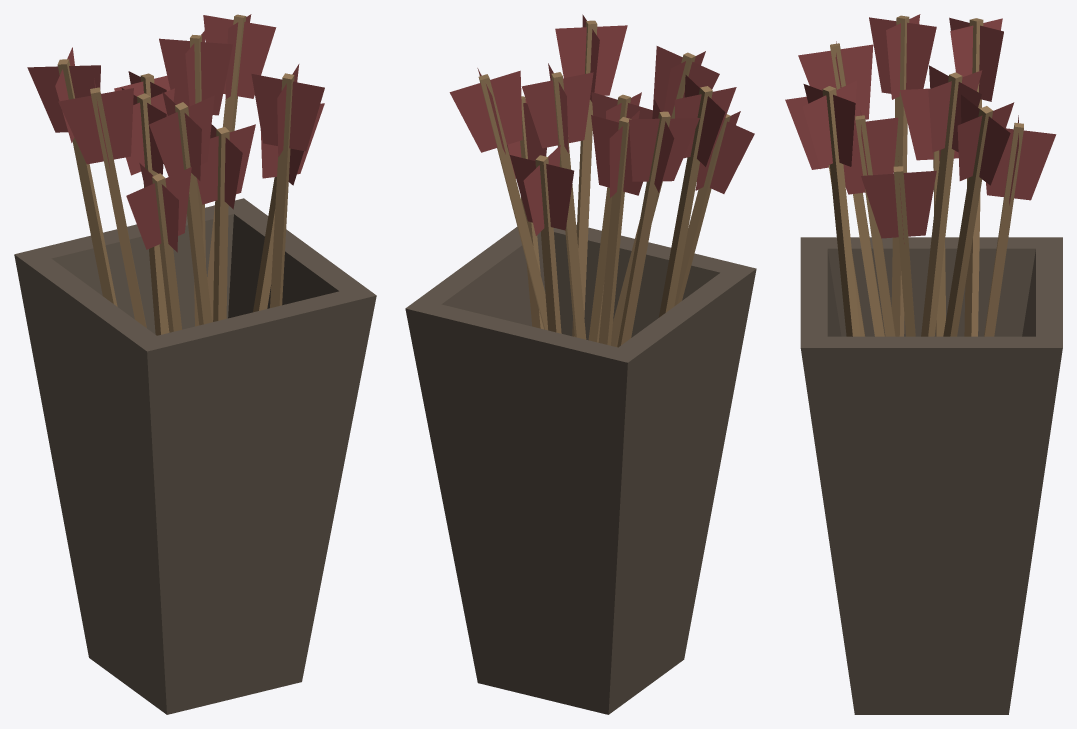
File: Arrow_Canister_Full.fbx
3 renders of one model, left to right at view 1: azimuth 30°, elevation 25°; view 2: azimuth 150°, elevation 25°; view 3: azimuth 270°, elevation 25°, orthographic. The views are drawn at different scales.
Parts seen in each view (by area): view 1: Arrow_Canister_Full; view 2: Arrow_Canister_Full; view 3: Arrow_Canister_Full.
Boxes of the visible parts, x1,y1,x2,y2 form: Arrow_Canister_Full: (14,14,376,714); Arrow_Canister_Full: (405,14,756,714); Arrow_Canister_Full: (785,14,1062,714).
Bounding box in the file's own units: 9.39 × 21.65 × 8.88.
